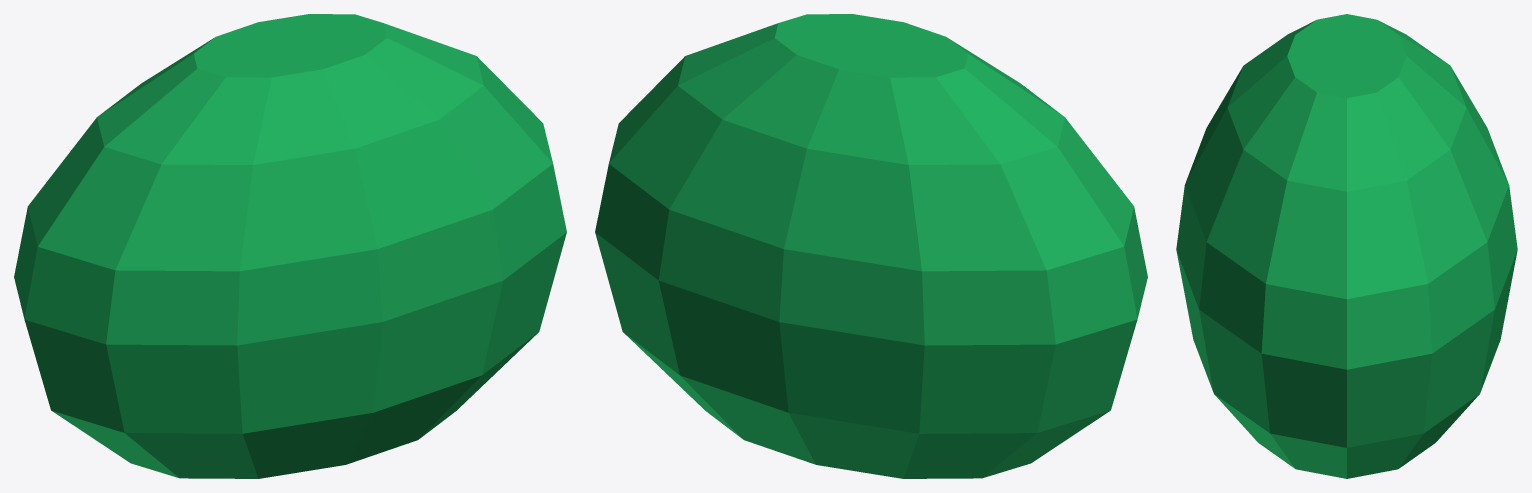
File: SM_Emerald_Normal.fbx
3 views of the same model, side by side, from view 1: azimuth 30°, elevation 25°; view 2: azimuth 150°, elevation 25°; view 3: azimuth 270°, elevation 25° (orthographic). The views are drawn at different scales.
Parts seen in each view (by area): view 1: SM_Emerald_Normal; view 2: SM_Emerald_Normal; view 3: SM_Emerald_Normal.
Part boxes in pixels (x1,y1,x2,y2): SM_Emerald_Normal: [14, 14, 566, 478]; SM_Emerald_Normal: [595, 14, 1147, 478]; SM_Emerald_Normal: [1176, 14, 1517, 478].
Size of the model in its own units: 20 by 12 by 15.
